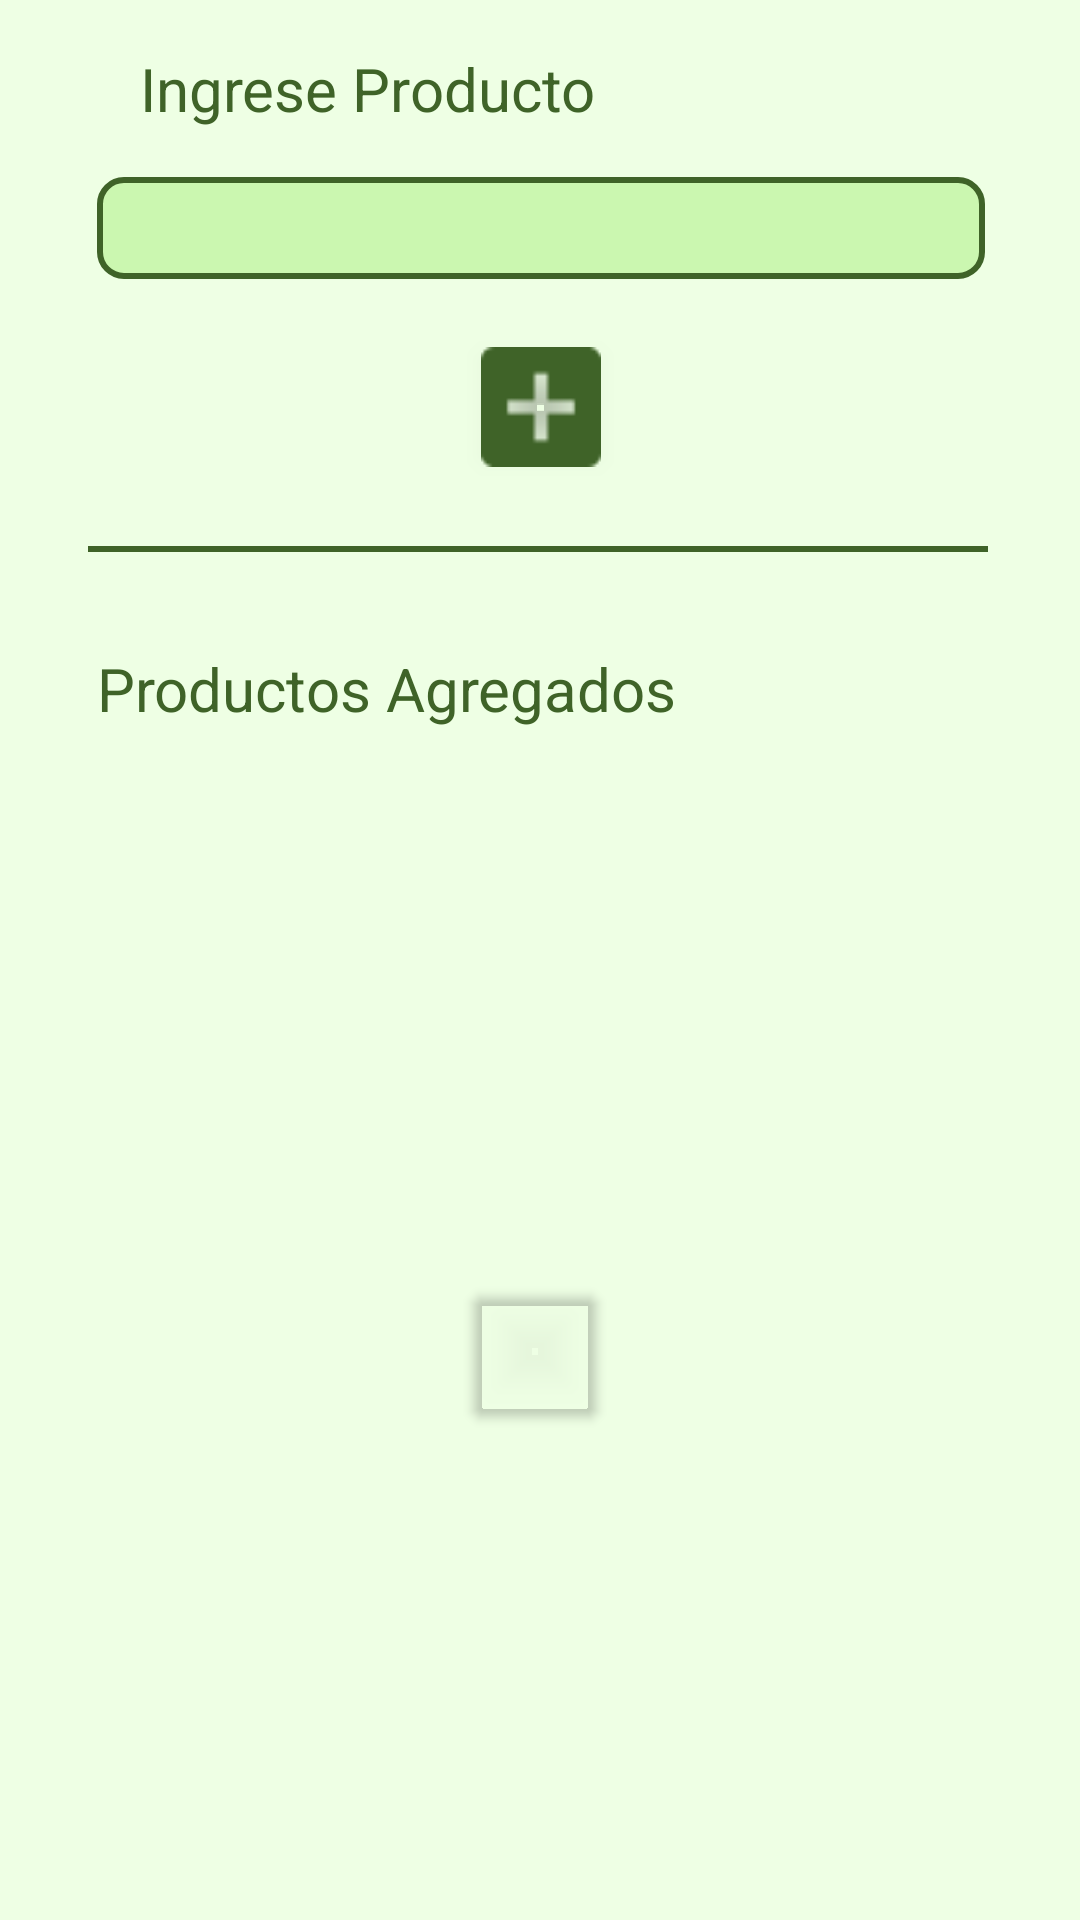

Locate icon controls on the screen. Image size 1080*1920, boxes as (x1, y1, x2, y2).
add: (481, 347, 601, 467)
